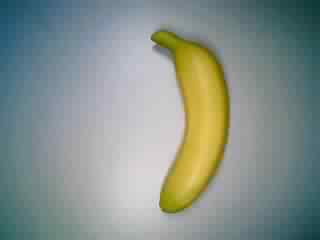banana: (145, 21, 237, 217)
